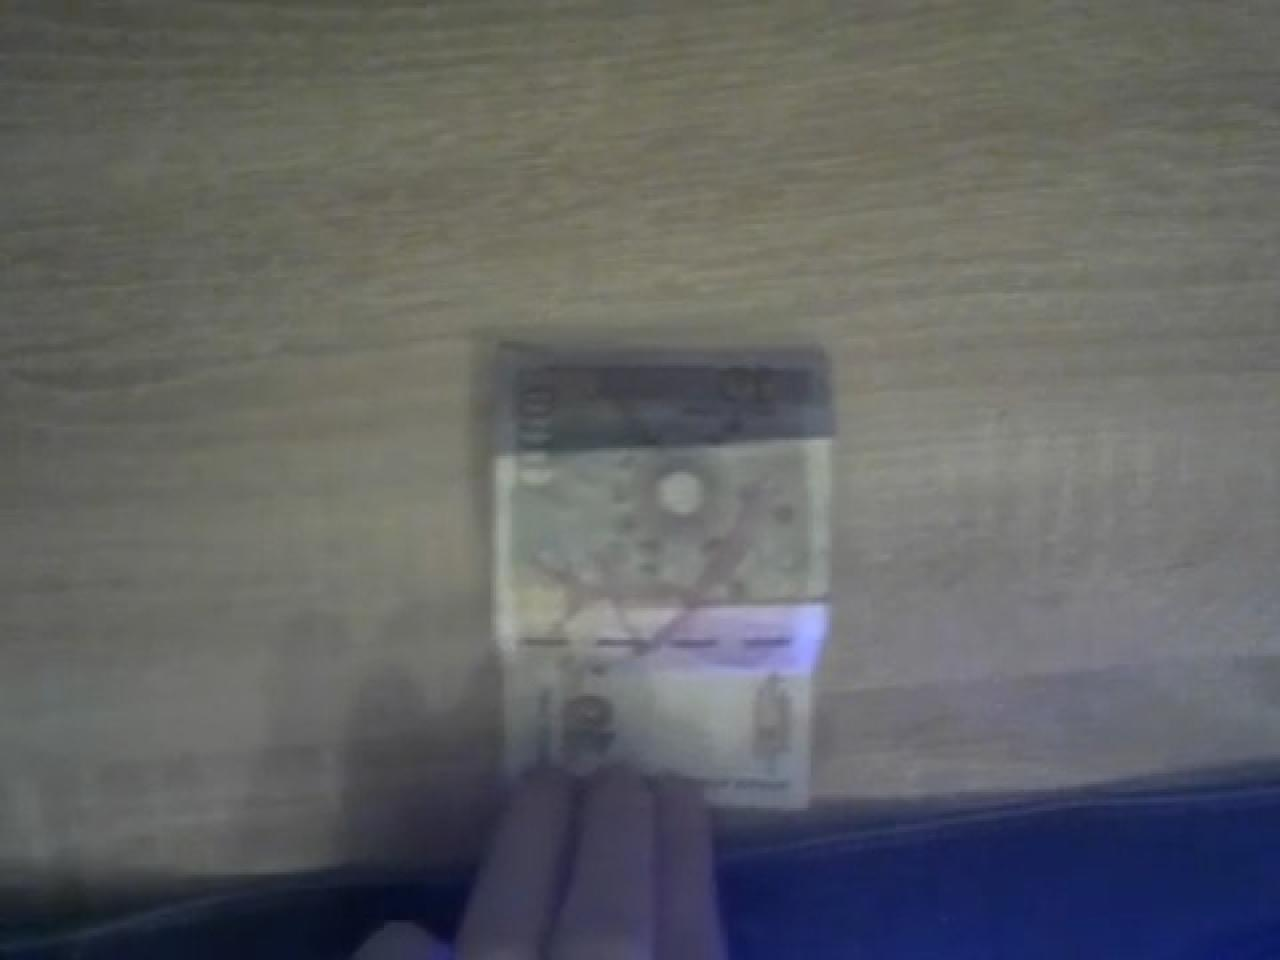10leva: (491, 349, 840, 808)
